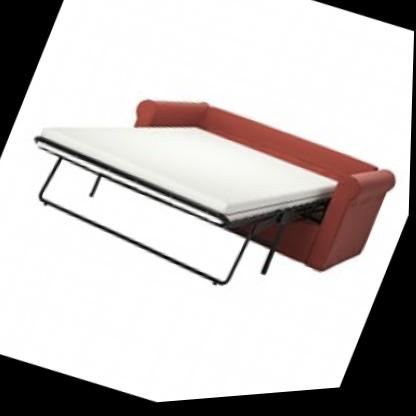Sofa: (0, 14, 415, 356)
